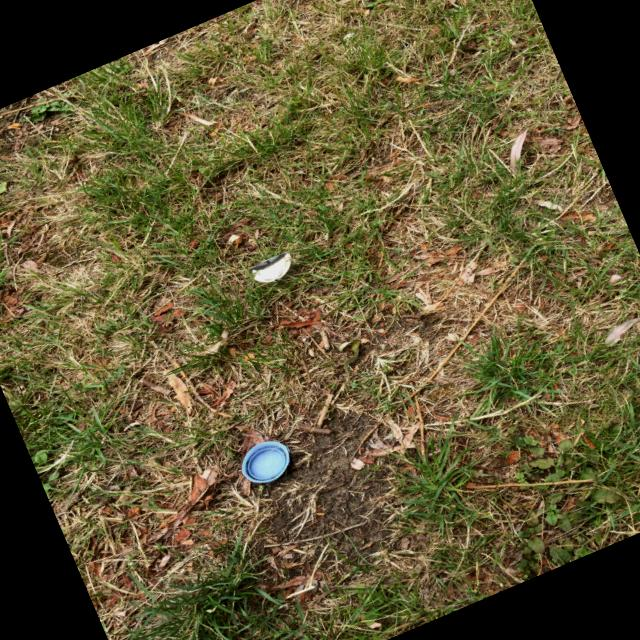Bottle cap: (242, 440, 290, 483), (249, 252, 292, 282)
